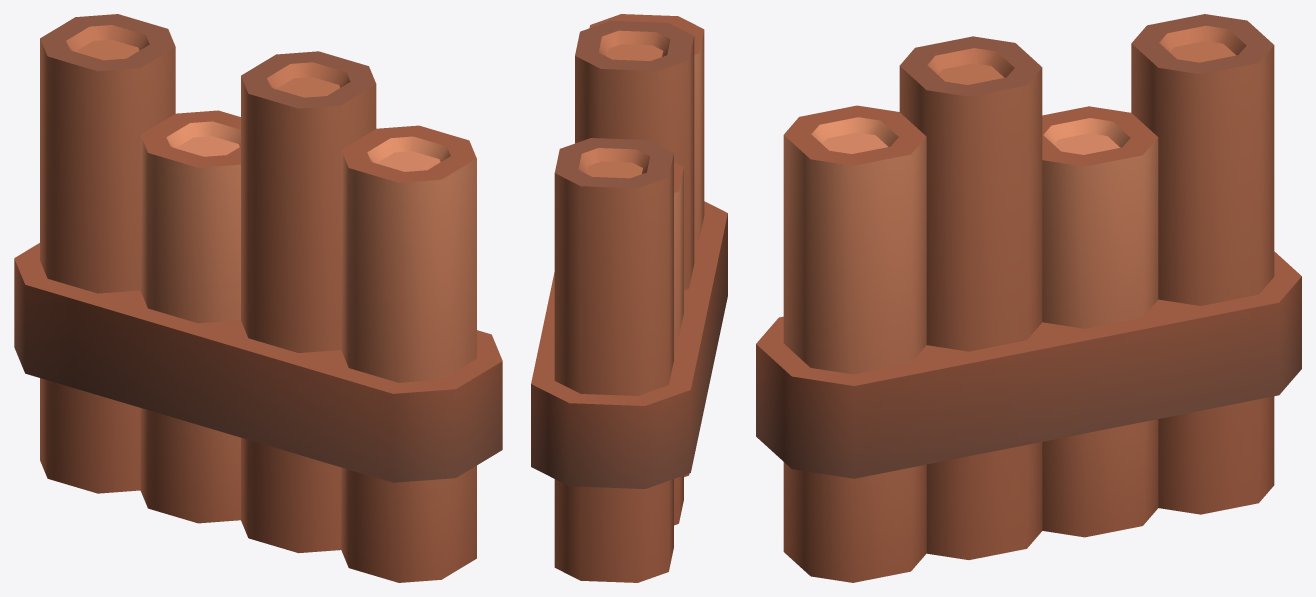
File: n5_n5_poles_lev5.004.glb
3 views of the same model, side by side, from view 1: azimuth 30°, elevation 25°; view 2: azimuth 150°, elevation 25°; view 3: azimuth 270°, elevation 25° (orthographic). The views are drawn at different scales.
Parts seen in each view (by area): view 1: n5_n5_poles_lev5.004; view 2: n5_n5_poles_lev5.004; view 3: n5_n5_poles_lev5.004.
Part boxes in pixels (left/top/right/bottom): n5_n5_poles_lev5.004: left=14, top=14, right=502, bottom=582; n5_n5_poles_lev5.004: left=531, top=14, right=727, bottom=582; n5_n5_poles_lev5.004: left=756, top=14, right=1301, bottom=582.
Bounding box in the file's own units: 3.49 × 4.96 × 5.29.
Materials: 1 (1 with a texture image).
